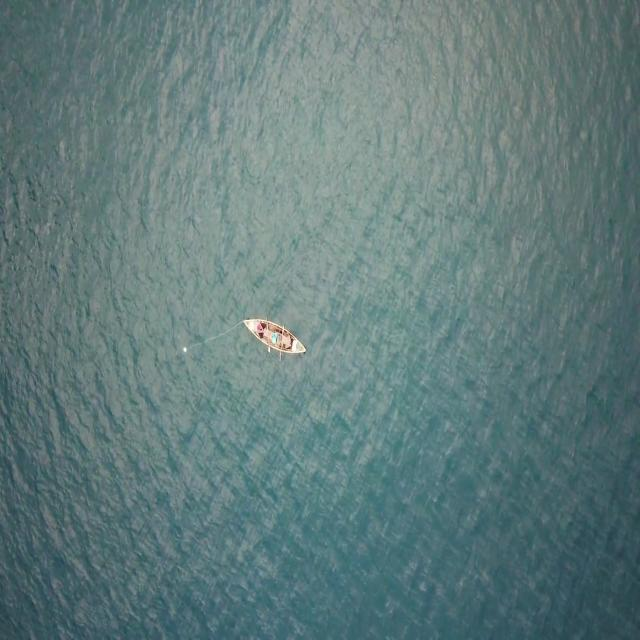ship: (239, 310, 309, 364)
